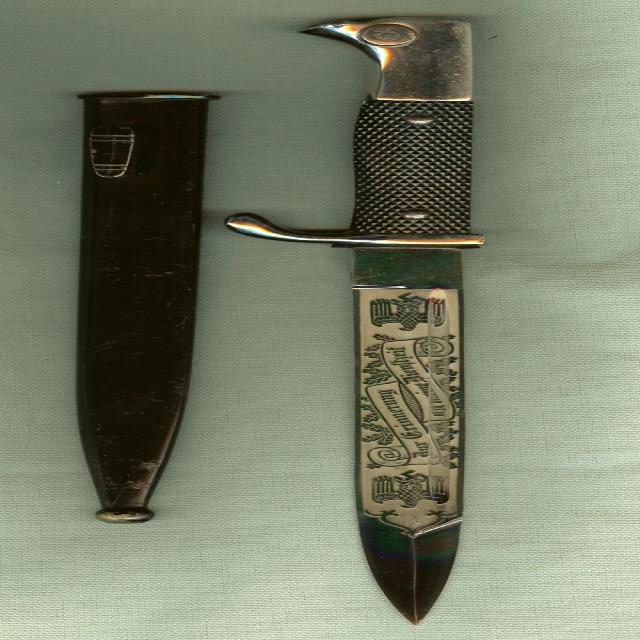knife: (304, 6, 491, 624)
